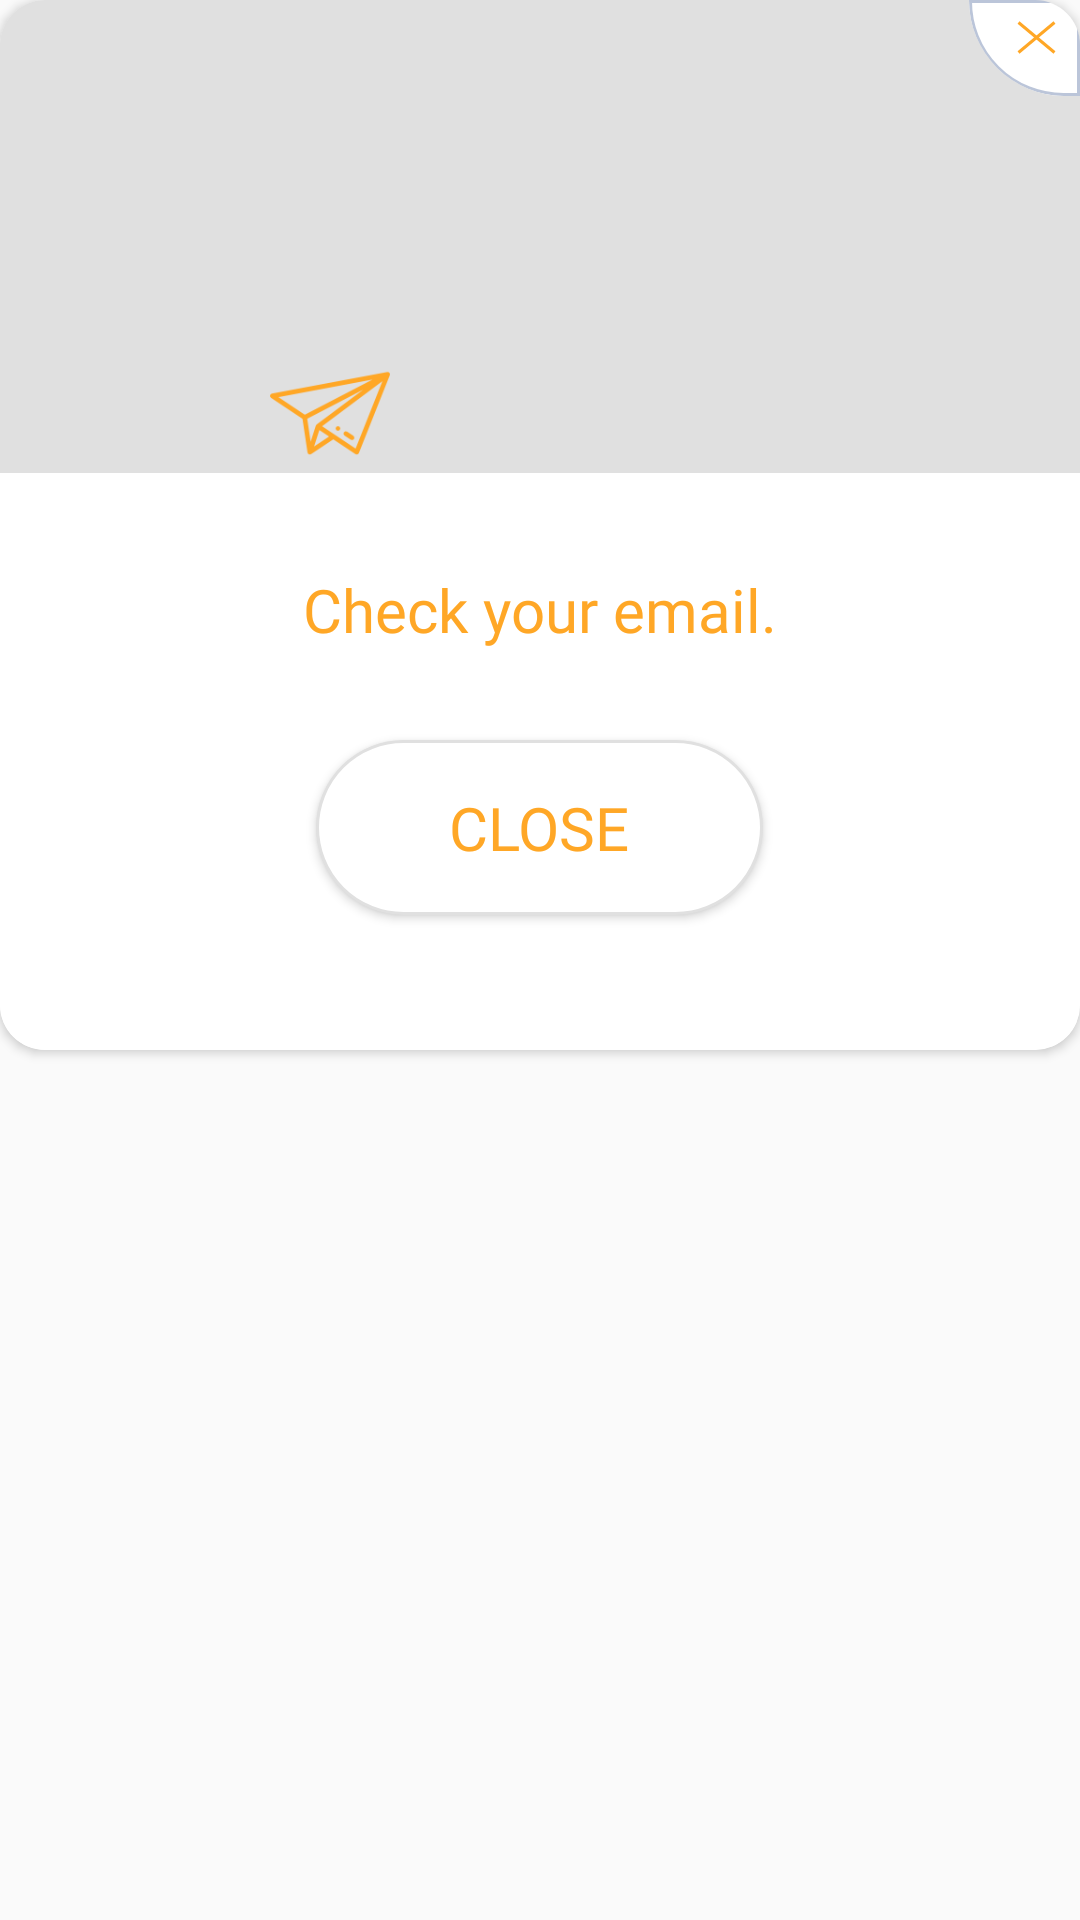

Icon click points for this 1080×1920 phone screenshot, format (x,y):
forgotpass closebutton: (1024,48)
forgotpass paperplane: (330,413)
